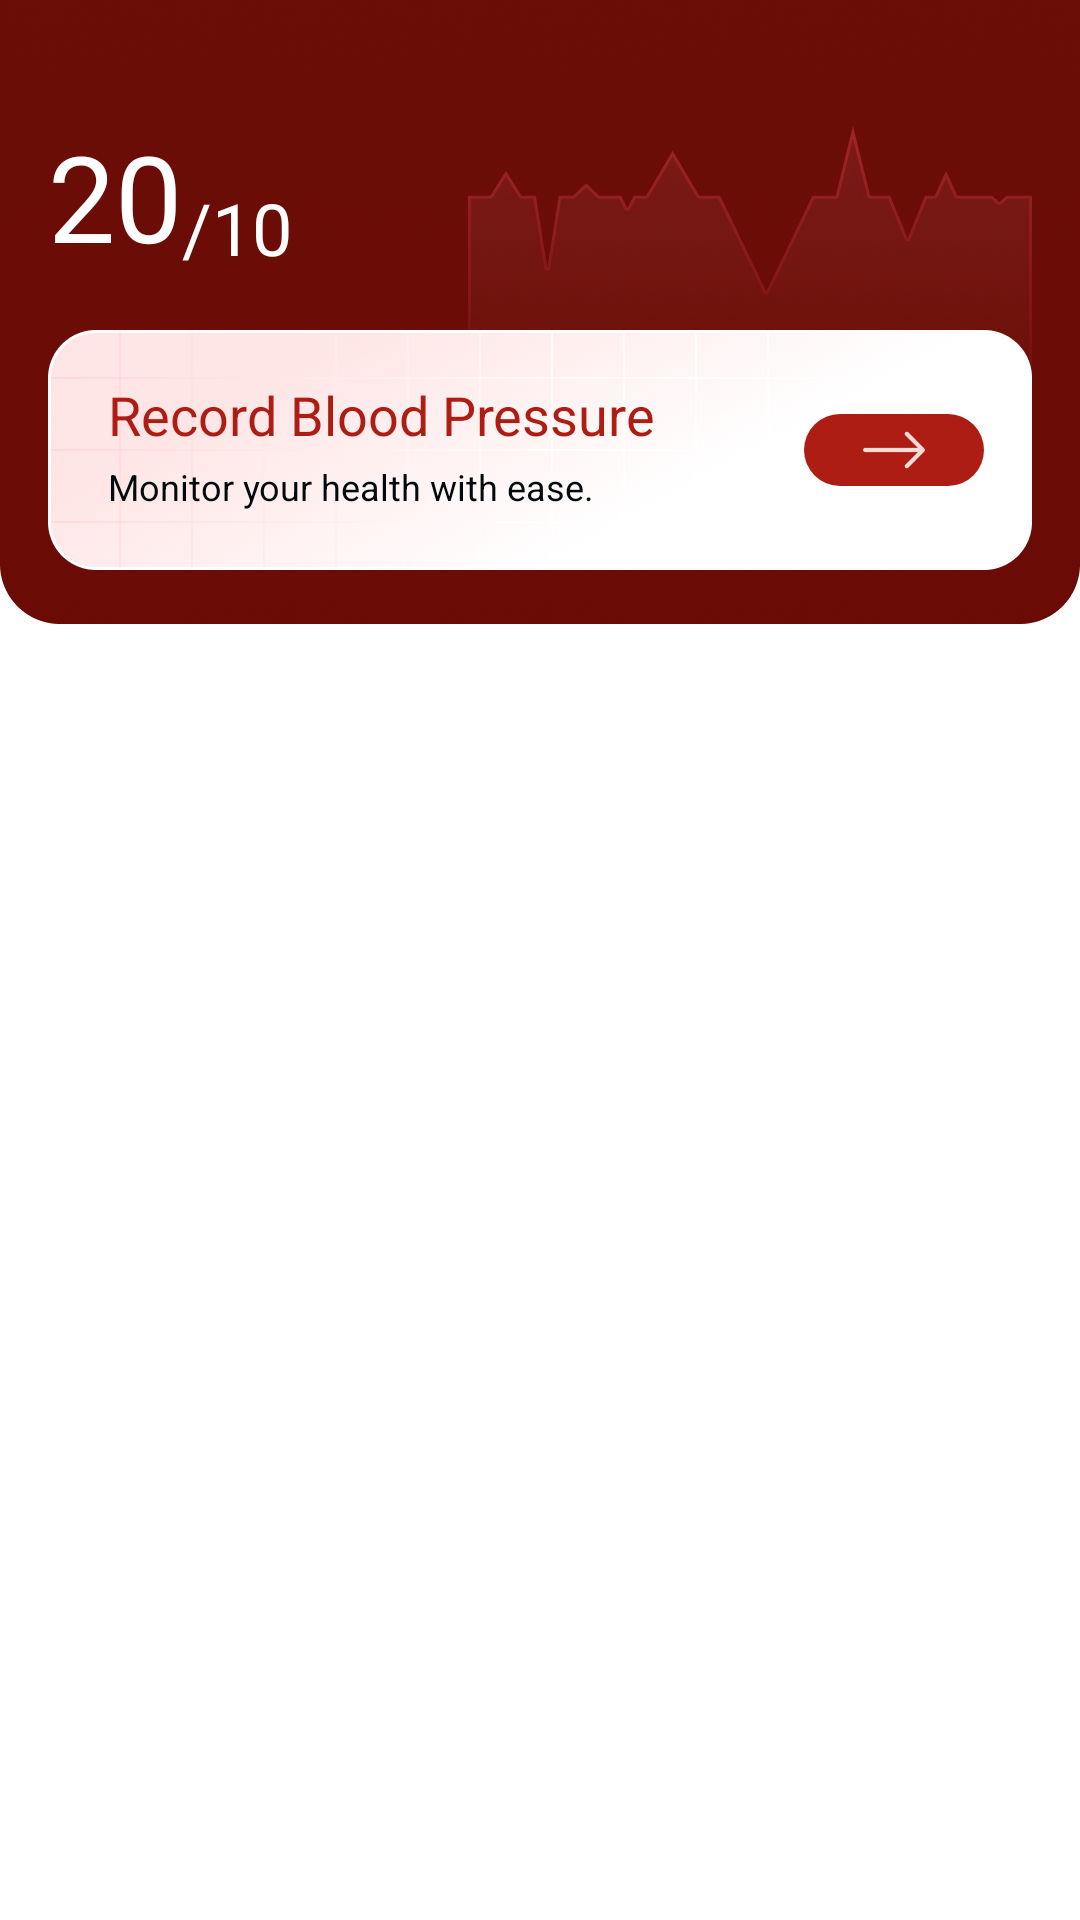

Named icons in this screenshot (1080 x 1920) and their centers, [x,y]:
home record next: [894,450]
